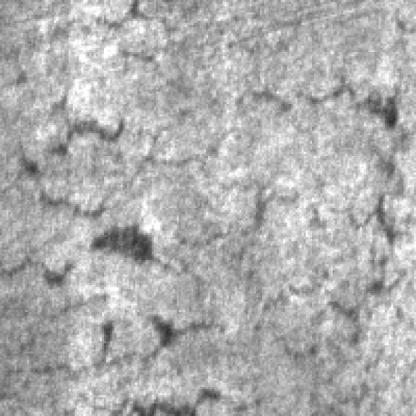crazing: (0, 141, 385, 300), (2, 0, 350, 135), (202, 185, 397, 408)
